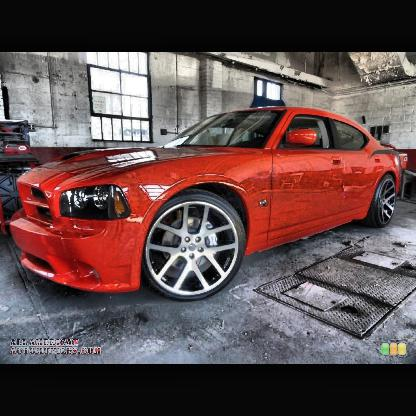Dodge Charger SRT-8 2009: (9, 106, 409, 304)
